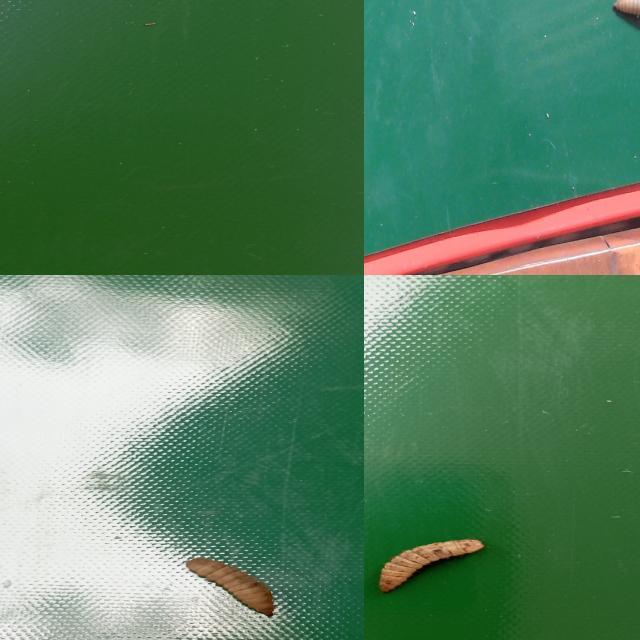Maggot: (377, 540, 484, 595), (186, 557, 276, 618)
